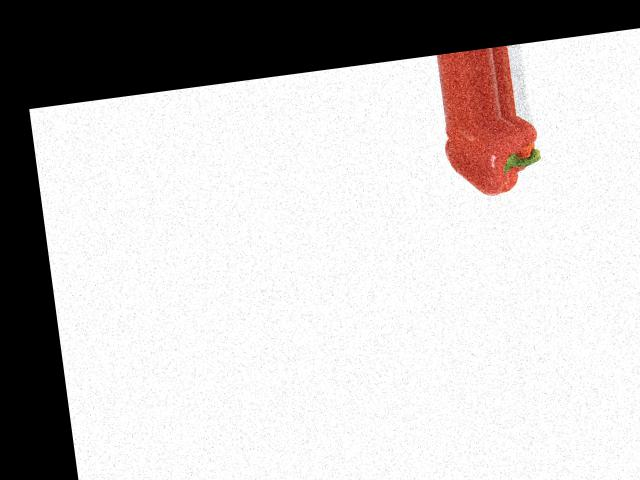bell_pepper: (431, 110, 558, 202)
